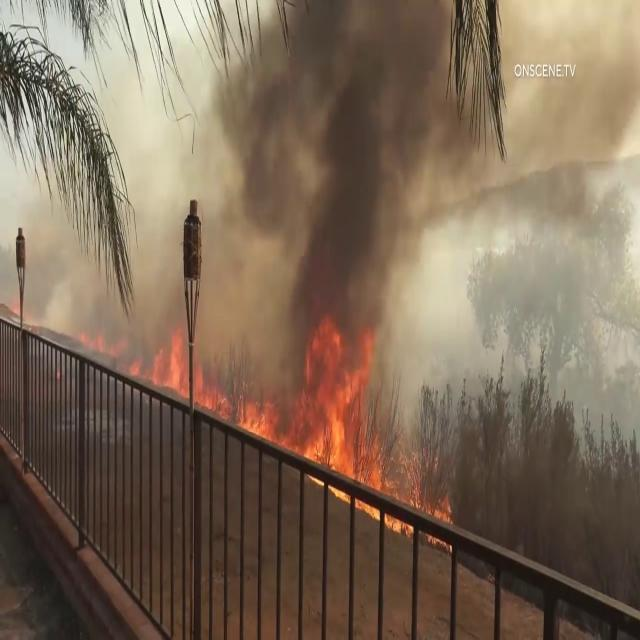Fire: (236, 316, 384, 497)
Smoke: (210, 1, 462, 387), (45, 121, 261, 406), (460, 0, 640, 293)
